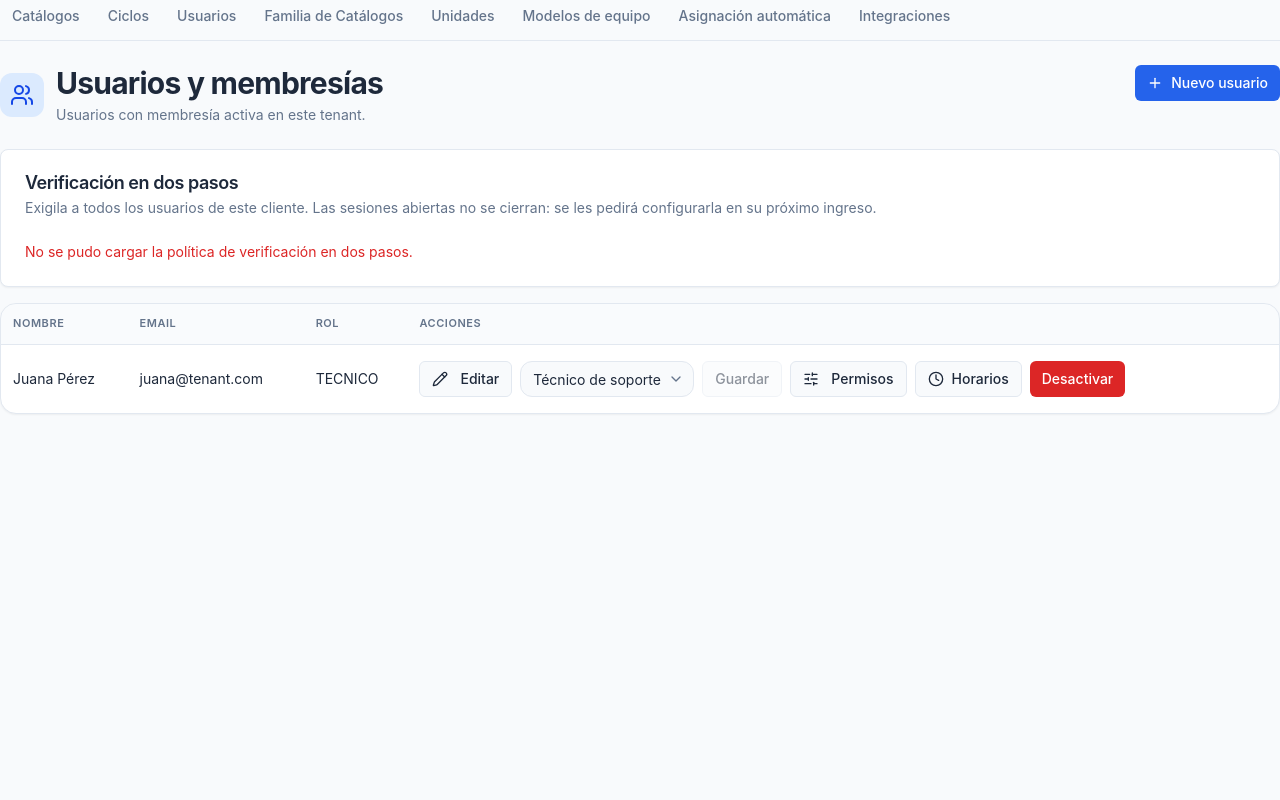
Test: UsuariosAdminView — botón Horarios (odd/tasks/pedidos-2026-10-26.md, S6) › cerrar y volver a abrir descarta la edición sin guardar
Click the button with aria-label "Horarios de Juana Pérez" at (968, 378), box [914,360,1022,396]
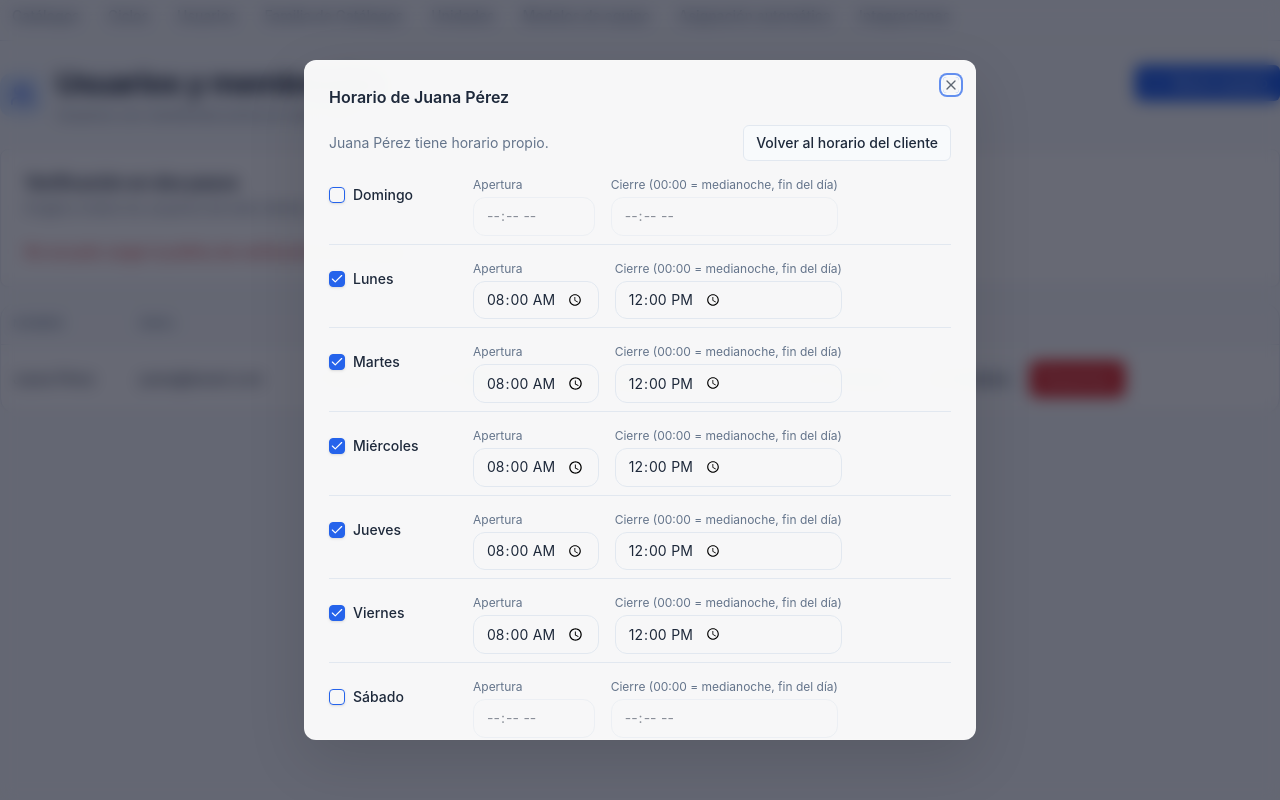
Now the text "Juana Pérez tiene horario propio." is shown, box [329,133,549,153]
Click the checkbox named "Lunes" next to "Lunes" at (337, 279), box [329,271,345,287]
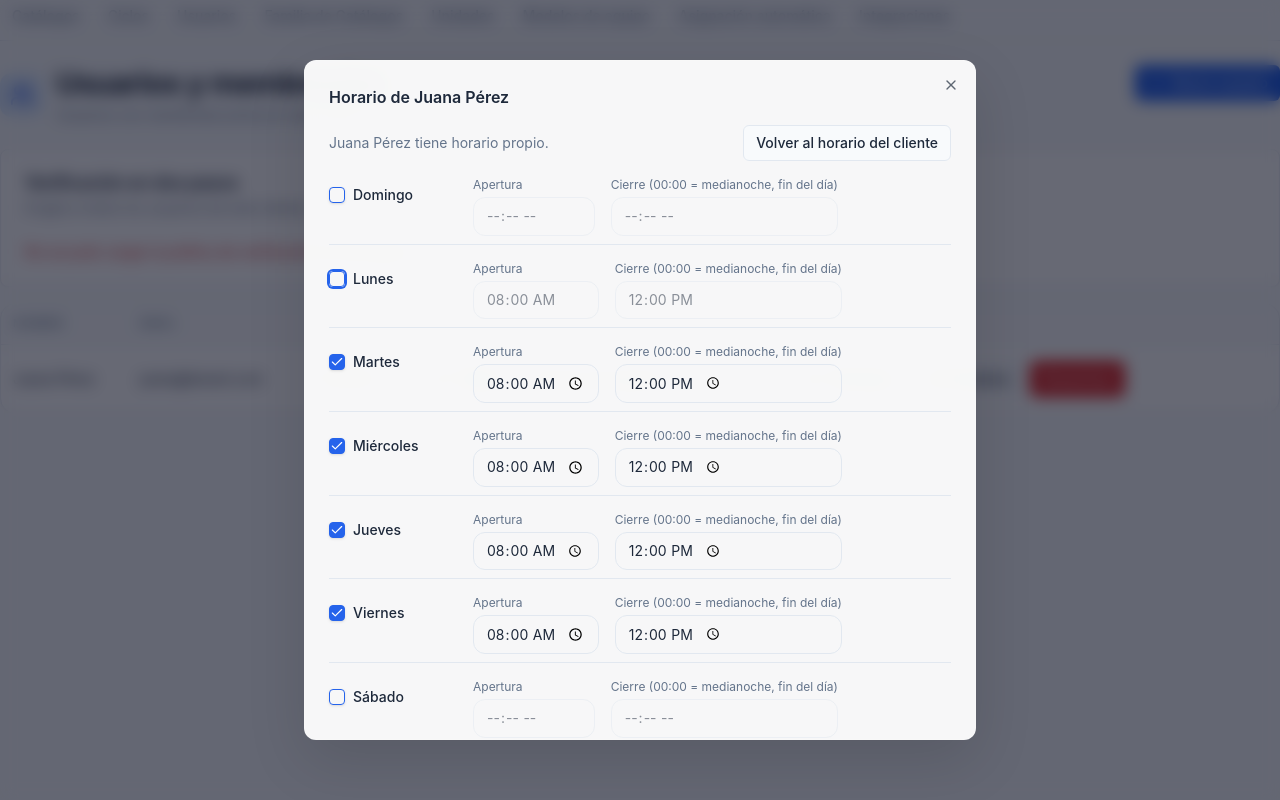
Now the checkbox named "Lunes" next to "Lunes" is not checked, box [329,271,345,287]
Press Escape
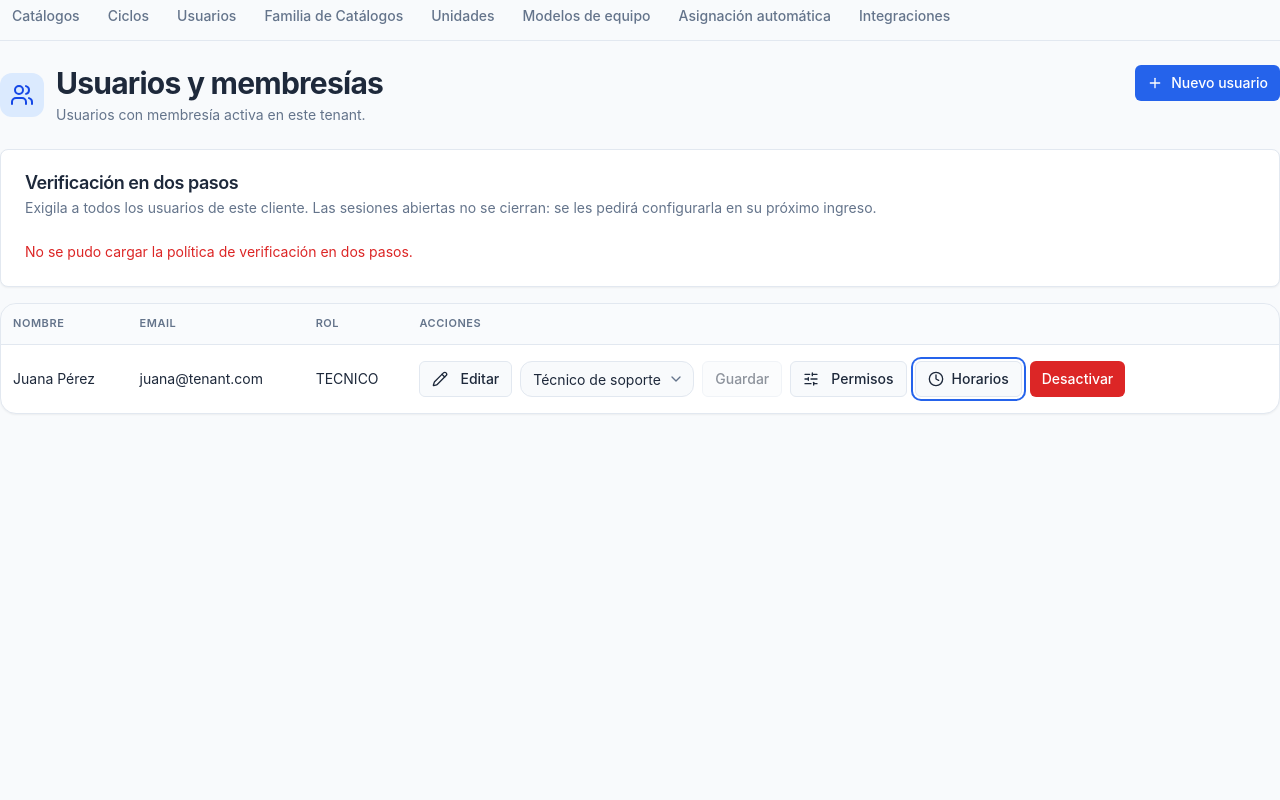
Now the dialog is gone
Click the button with aria-label "Horarios de Juana Pérez" at (968, 378), box [914,360,1022,396]
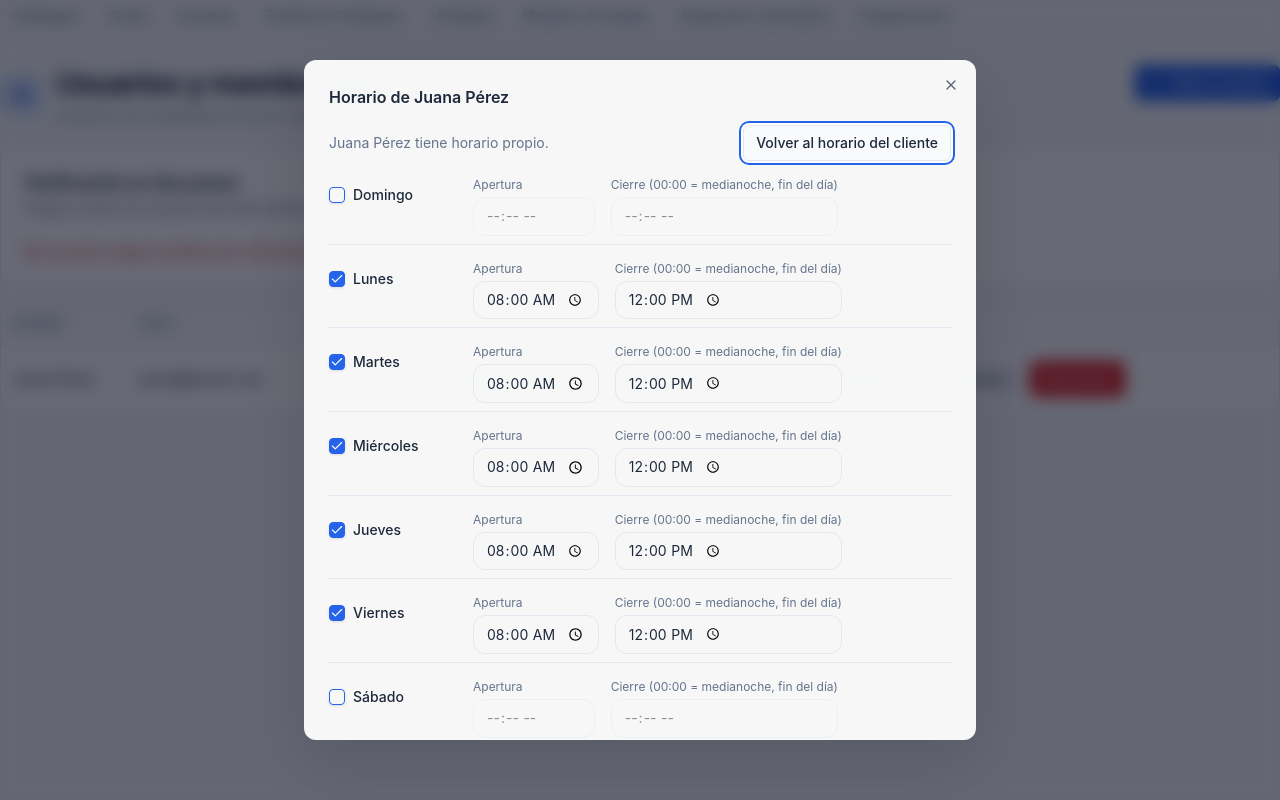
Now the text "Juana Pérez tiene horario propio." is shown, box [329,133,549,153]
Now the checkbox named "Lunes" next to "Lunes" is checked, box [329,271,345,287]
